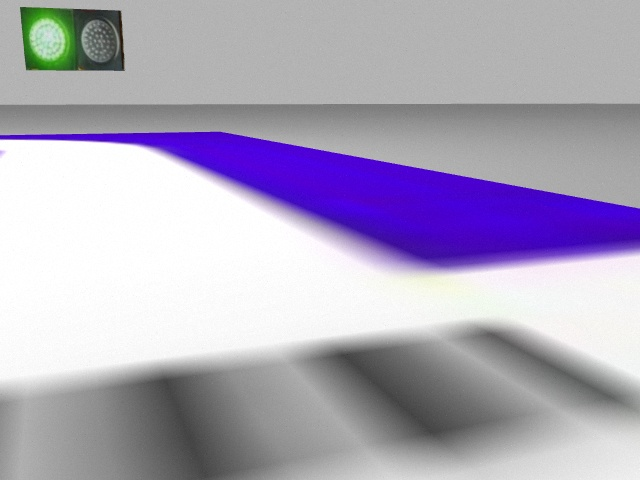green: (22, 7, 77, 71)
